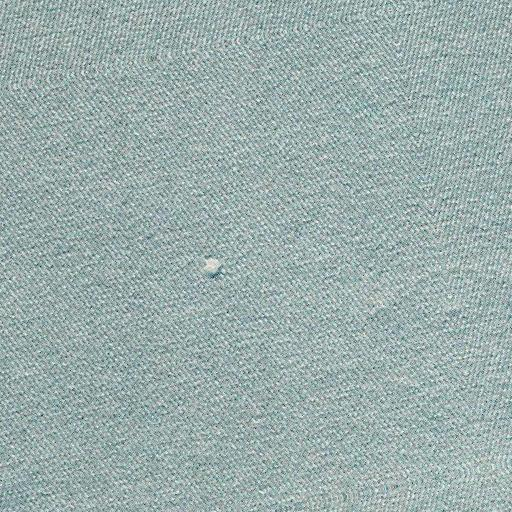knot: (182, 250, 241, 288)
